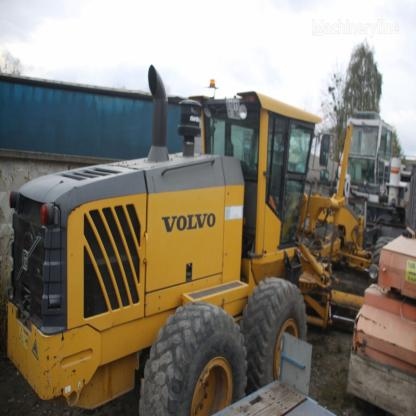bull_dozer/loader/grader: (11, 54, 412, 406)
